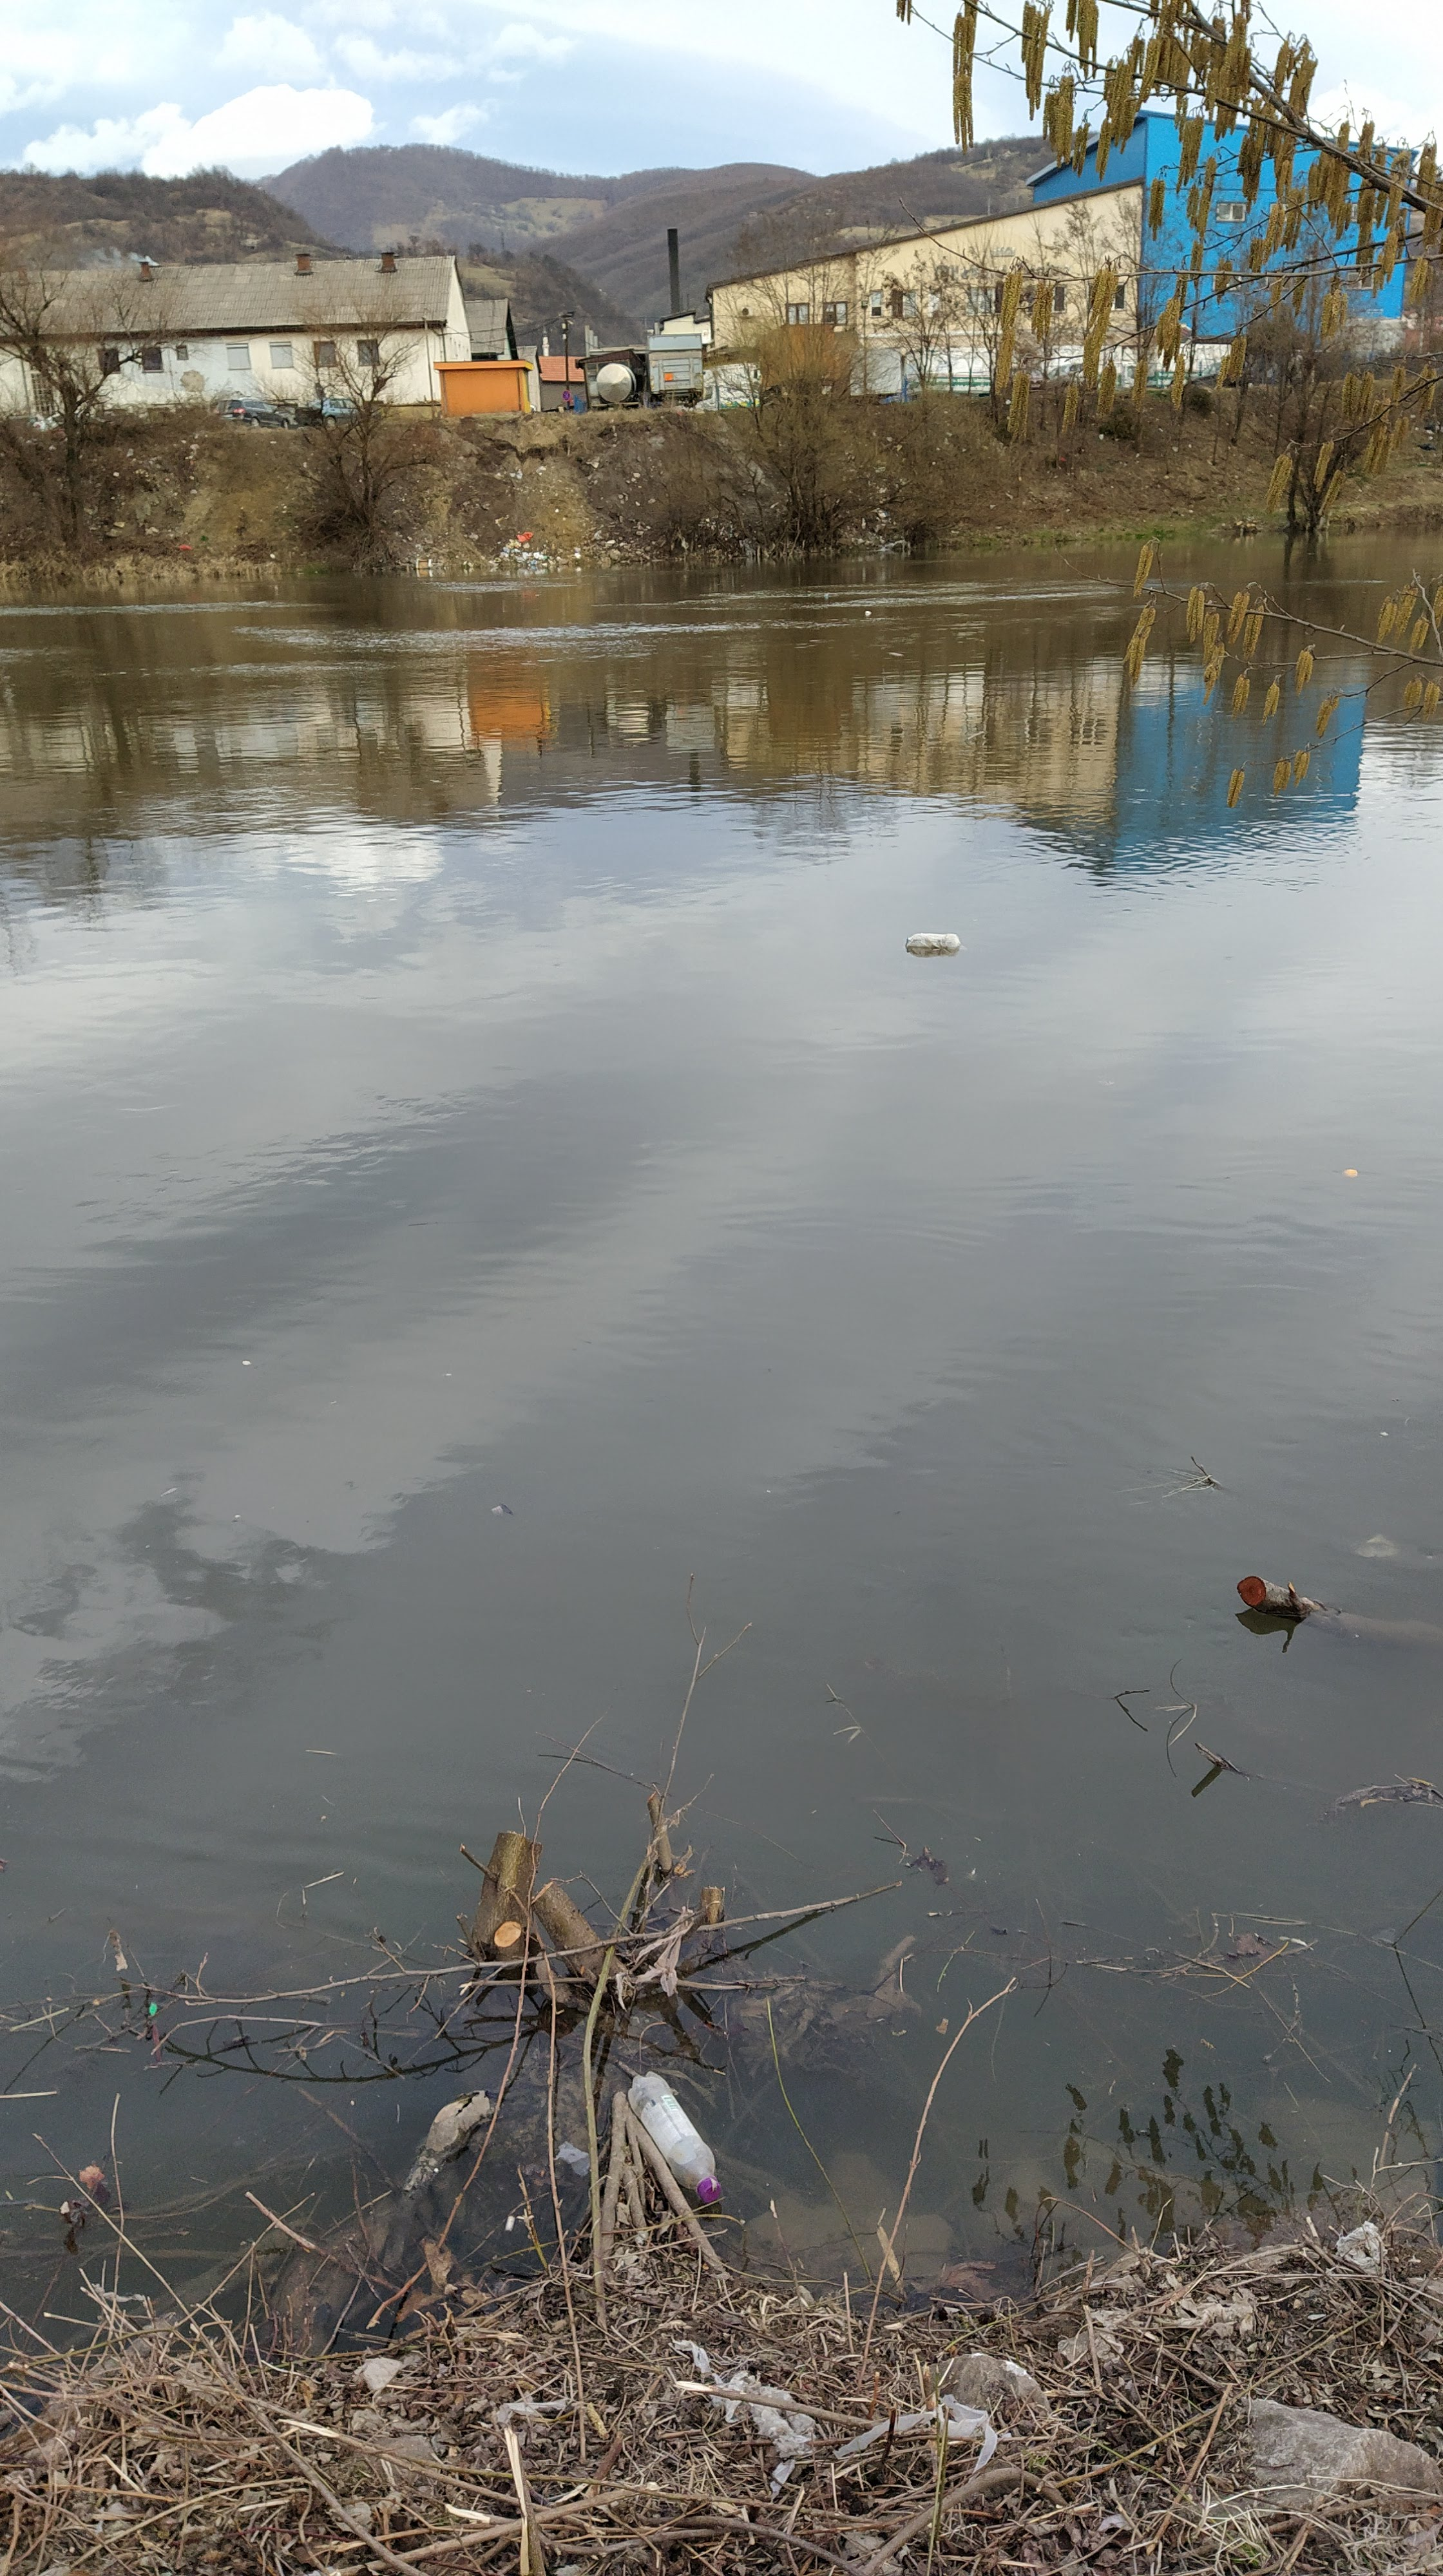Plastic Bottle: (627, 2072, 724, 2204), (907, 932, 960, 948), (889, 651, 901, 656), (866, 610, 871, 616)
